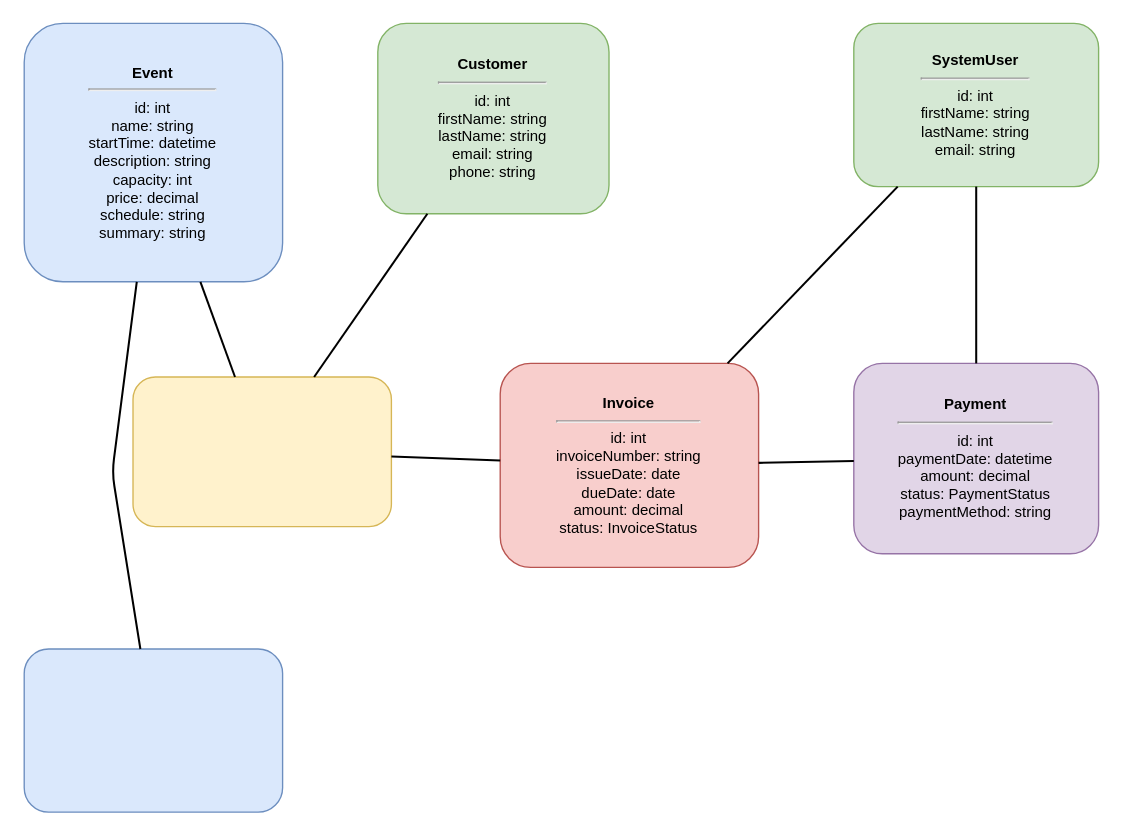
This 1122x836 diagram has some shape labels left out. The shapes that lost their labels are listed below. From the top down, each one's centre as x and y in pixels, then its label:
At point 261,451: "Registration id: int registeredAt: datetime status: RegistrationStatus".
At point 153,730: "EventFile id: int fileName: string filePath: string uploadedAt: datetime".
